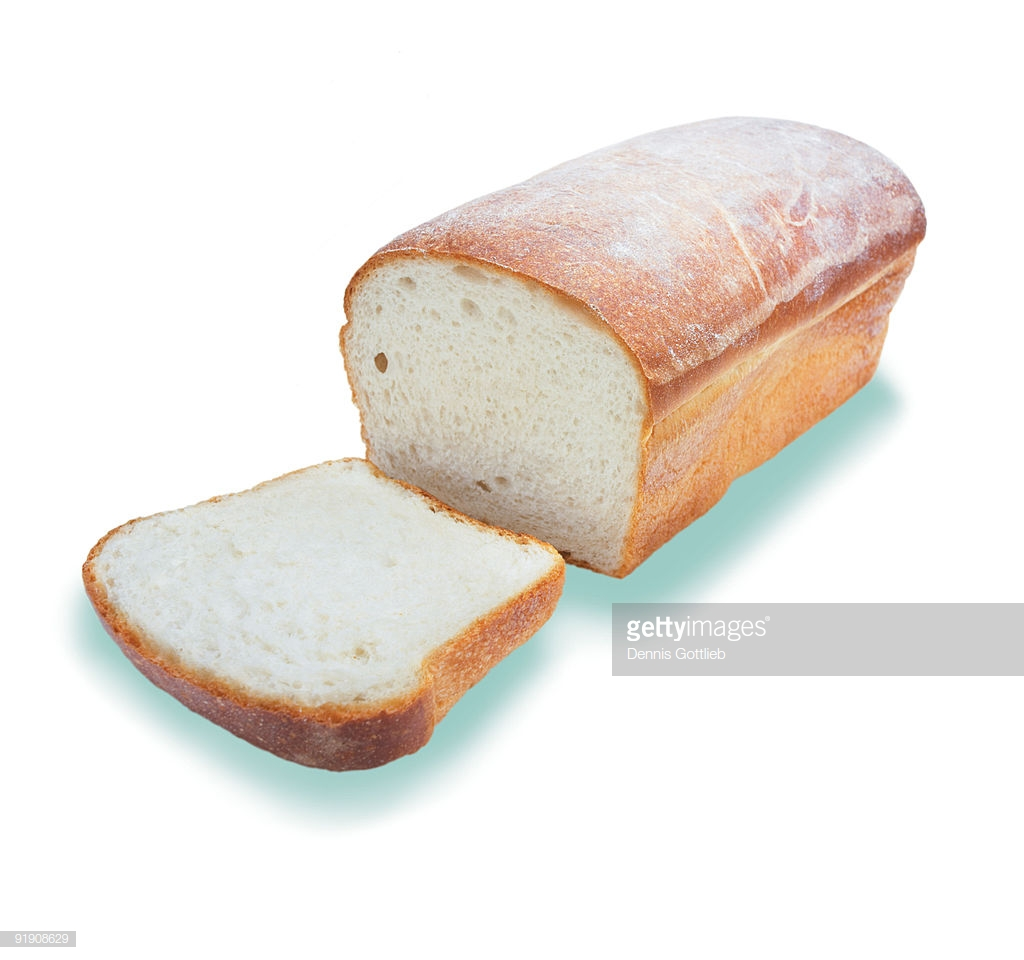slice of bread: (63, 487, 537, 762), (345, 251, 673, 587)
